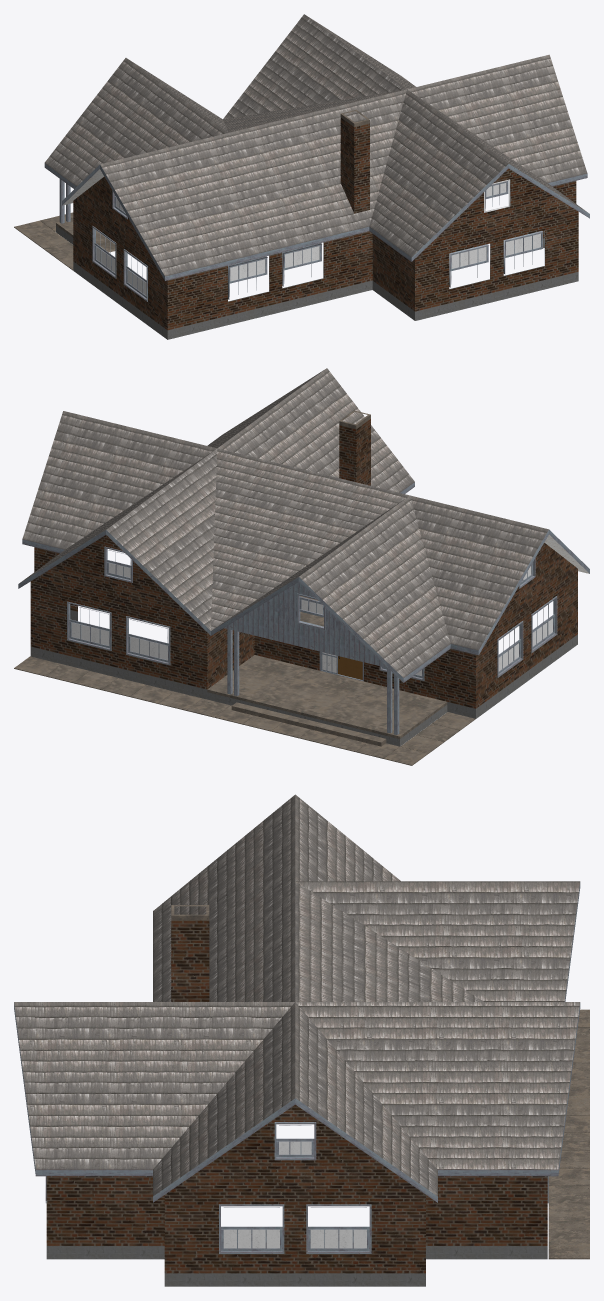
Rendered from brick_cottage.glb.
3 renders of one model, top to bottom at view 1: azimuth 30°, elevation 25°; view 2: azimuth 150°, elevation 25°; view 3: azimuth 270°, elevation 25°, orthographic. The views are drawn at different scales.
Parts seen in each view (by area): view 1: bld; view 2: bld; view 3: bld.
Boxes of the visible parts, x1=… form: bld: x1=14, y1=14, x2=589, y2=339; bld: x1=14, y1=368, x2=589, y2=765; bld: x1=14, y1=794, x2=589, y2=1286.
Bounding box in the file's own units: 20.12 × 7.2 × 16.12.
11 materials, 9 textured.
